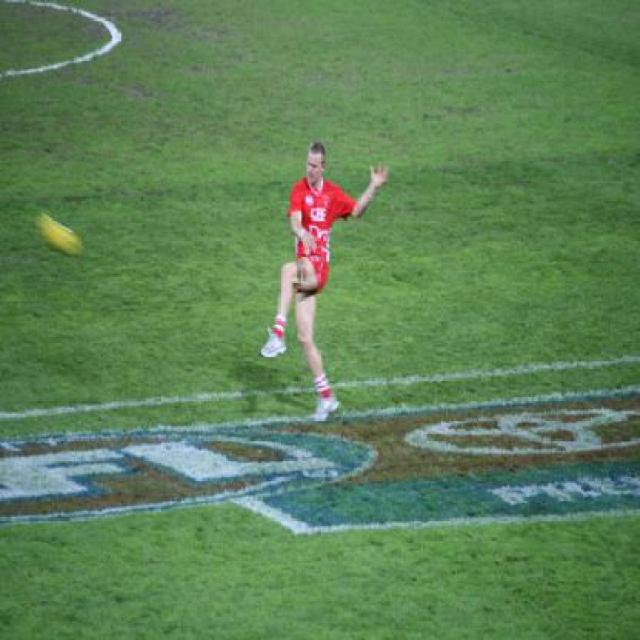Person: (275, 134, 377, 417)
